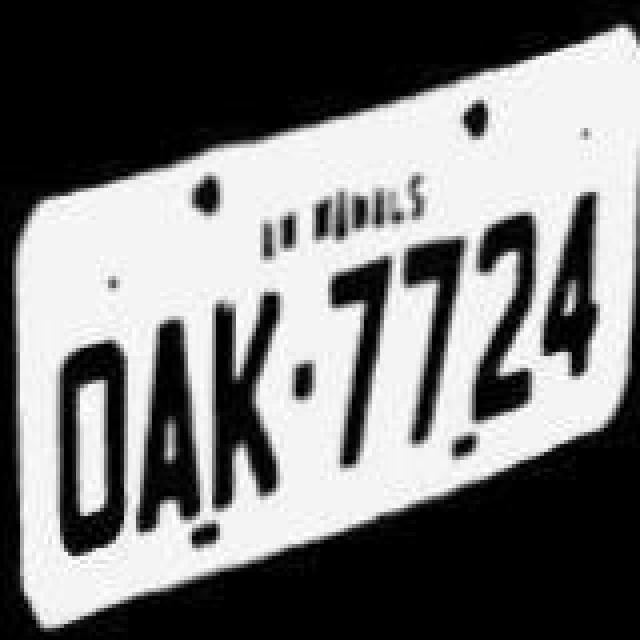2: (470, 204, 542, 432)
4: (534, 190, 614, 386)
7: (322, 246, 402, 470), (392, 228, 468, 452)
A: (130, 304, 206, 540)
K: (204, 280, 292, 512)
O: (44, 336, 140, 560)
